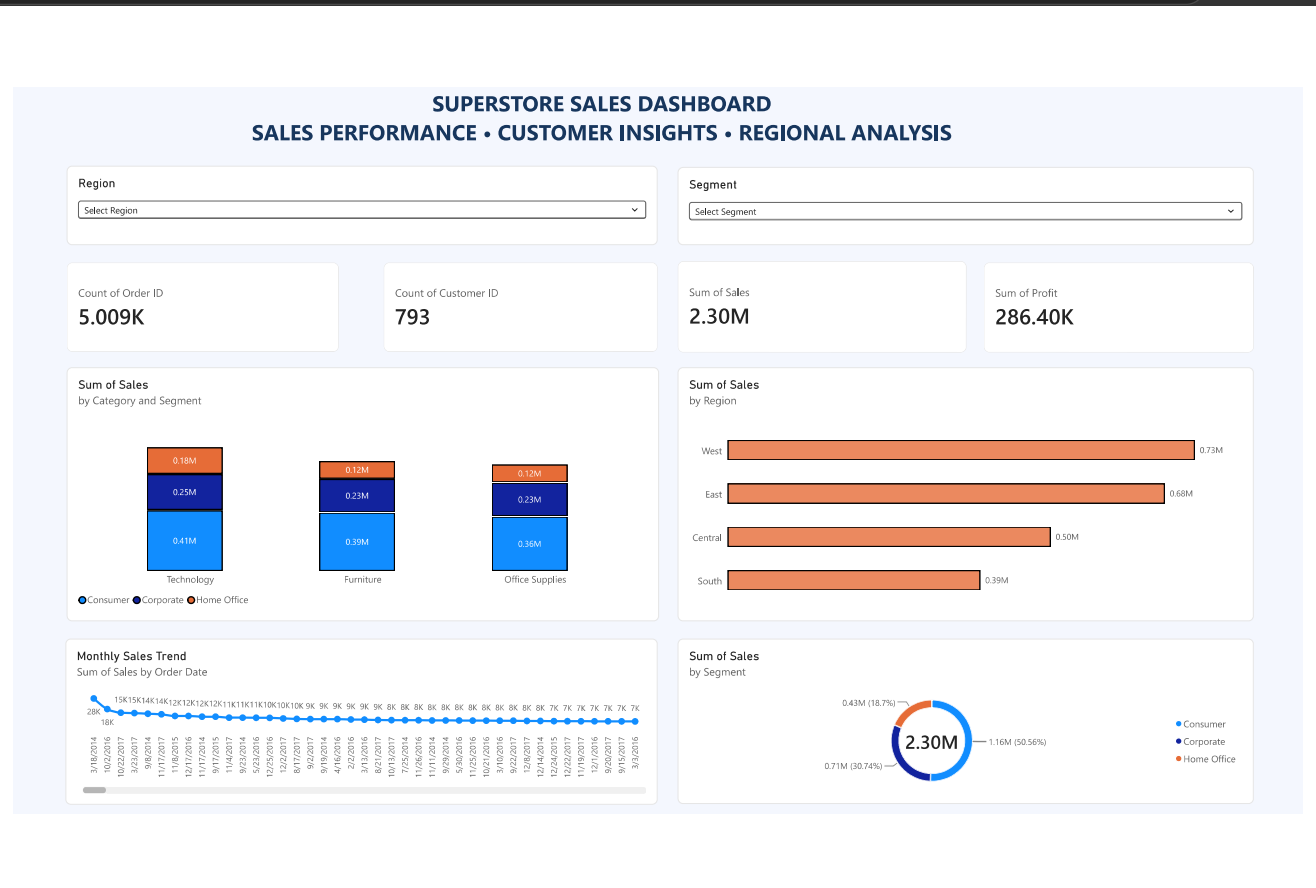

What the dashboard file says about the page in this screenshot:
{"tool":"powerbi","page":{"name":"Page 1","canvas":[1920,1080],"ordinal":0},"visuals":[{"type":"cardVisual","fields":{"Data":["Sum(Sample - Superstore.Sales)"]},"box":[990,258,430,136],"z":0},{"type":"cardVisual","fields":{"Data":["Count(Sample - Superstore.Order ID)"]},"box":[80,260,405,133.3],"z":1000},{"type":"cardVisual","fields":{"Data":["Count(Sample - Superstore.Customer ID)"]},"box":[552,260,408.3,133.3],"z":2000},{"type":"cardVisual","fields":{"Data":["Sum(Sample - Superstore.Profit)"]},"box":[1446,260,402,134],"z":3000},{"type":"lineChart","title":"Monthly Sales Trend","fields":{"Category":["Sample - Superstore.Order Date"],"Y":["Sum(Sample - Superstore.Sales)"]},"box":[78,820,881.7,246.7],"z":5000},{"type":"clusteredBarChart","fields":{"Category":["Sample - Superstore.Region"],"Y":["Sum(Sample - Superstore.Sales)"]},"box":[990,416,858,378],"z":6000},{"type":"donutChart","fields":{"Category":["Sample - Superstore.Segment"],"Y":["Sum(Sample - Superstore.Sales)"]},"box":[990,820,858,246],"z":7000},{"type":"columnChart","fields":{"Category":["Sample - Superstore.Category"],"Series":["Sample - Superstore.Segment"],"Y":["Sum(Sample - Superstore.Sales)"]},"box":[80,416,881.7,378.3],"z":8000},{"type":"textbox","box":[0,0,1754,116],"z":9000},{"type":"listSlicer","fields":{"Values":["Sample - Superstore.Region"]},"box":[80,116,880,118],"z":11000},{"type":"listSlicer","fields":{"Values":["Sample - Superstore.Segment"]},"box":[990,118,858,116],"z":12000}]}

Visuals, with their boxes on the page's 1920x1080 design canvas (x1, y1, x2, y2). These are canvas units, not pixel positions in the 1316x888 screenshot, which may show the page scaled, cropped or inside an application window:
cardVisual - Sum(Sample - Superstore.Sales): <box>990,258,1420,394</box>
cardVisual - Count(Sample - Superstore.Order ID): <box>80,260,485,393</box>
cardVisual - Count(Sample - Superstore.Customer ID): <box>552,260,960,393</box>
cardVisual - Sum(Sample - Superstore.Profit): <box>1446,260,1848,394</box>
"Monthly Sales Trend" lineChart: <box>78,820,960,1067</box>
clusteredBarChart - Sample - Superstore.Region x Sum(Sample - Superstore.Sales): <box>990,416,1848,794</box>
donutChart - Sample - Superstore.Segment x Sum(Sample - Superstore.Sales): <box>990,820,1848,1066</box>
columnChart - Sample - Superstore.Category x Sample - Superstore.Segment: <box>80,416,962,794</box>
textbox: <box>0,0,1754,116</box>
listSlicer - Sample - Superstore.Region: <box>80,116,960,234</box>
listSlicer - Sample - Superstore.Segment: <box>990,118,1848,234</box>
